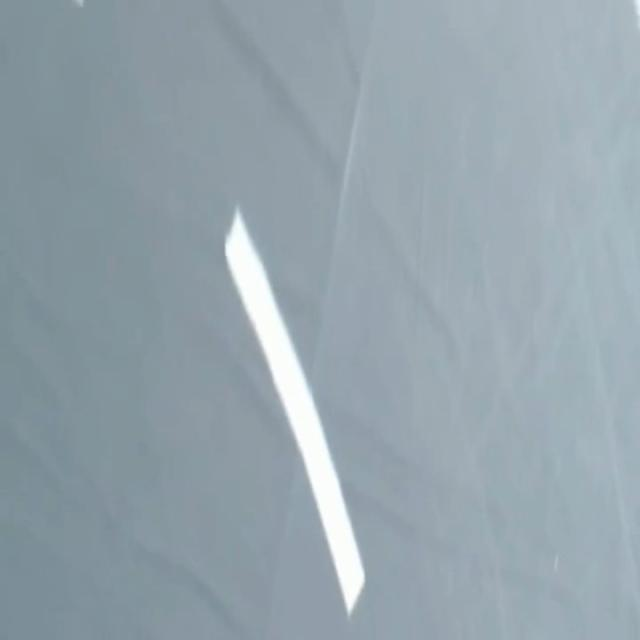center: (225, 210, 364, 616)
